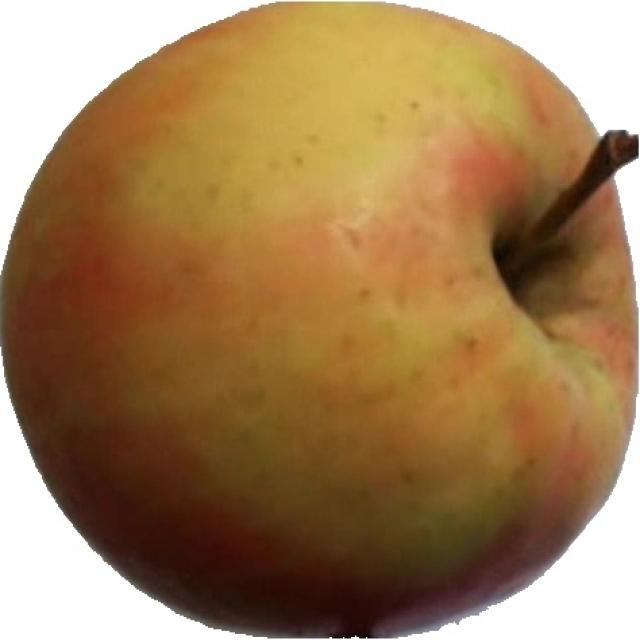apple: (3, 4, 637, 636)
